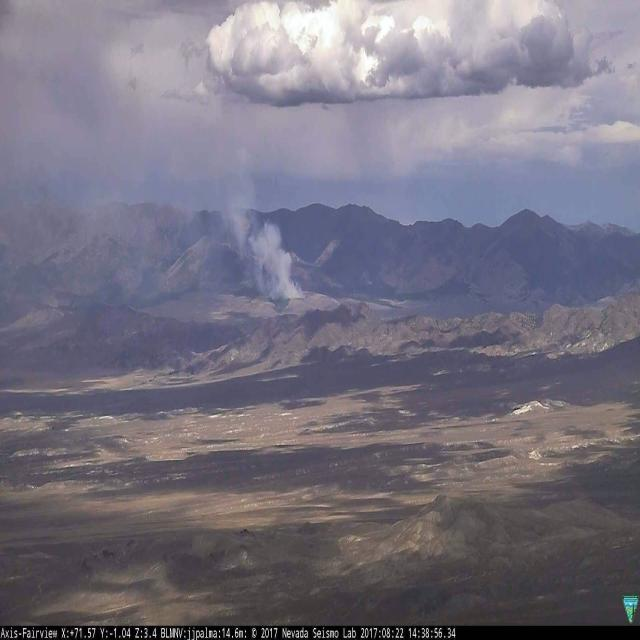smoke: (217, 158, 312, 302)
